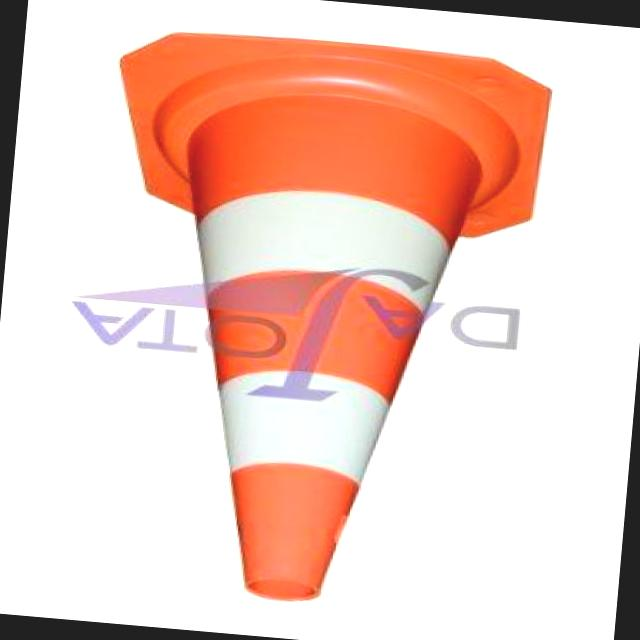cone: (117, 45, 546, 630)
